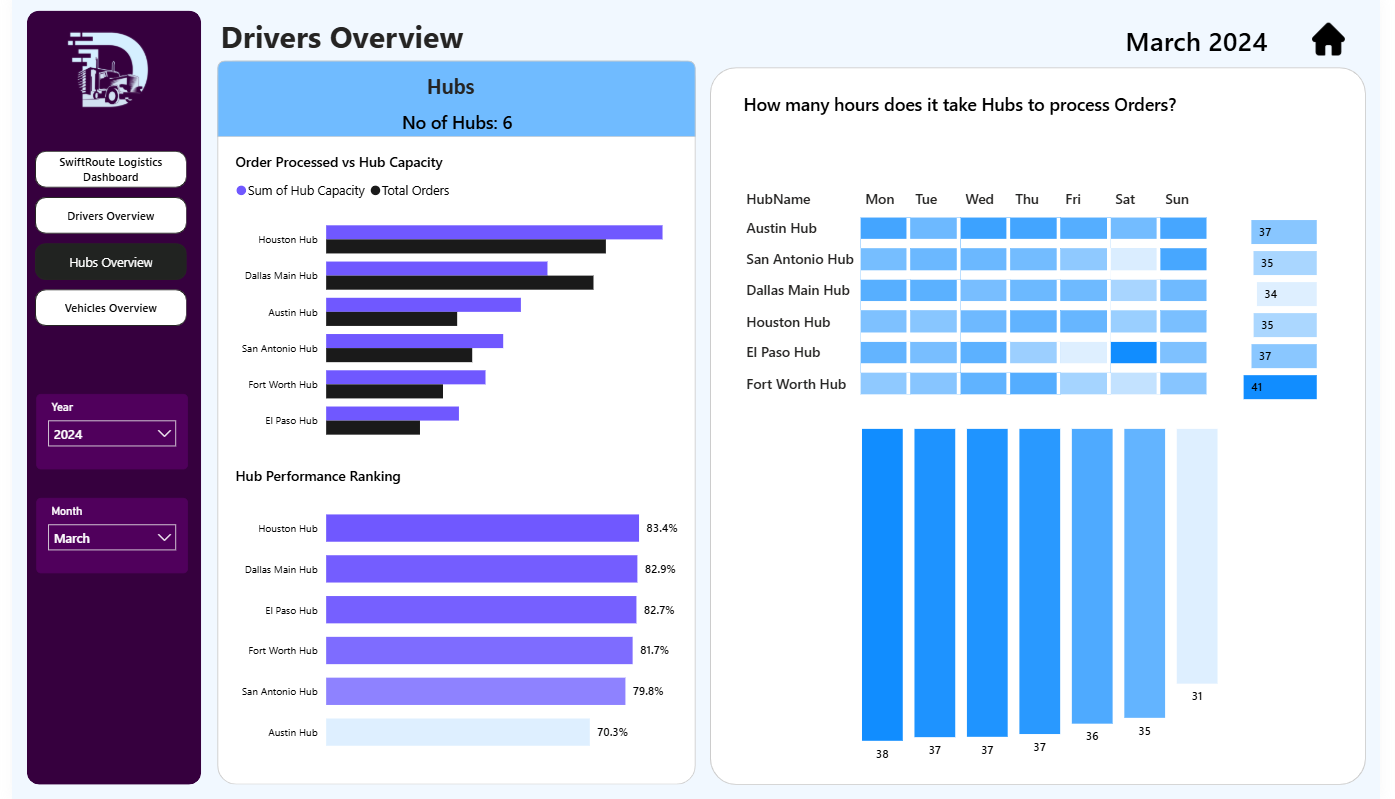

The dashboard page shown, as its layout file describes it:
{"tool":"powerbi","page":{"name":"Hubs Overview","canvas":[1450,850],"ordinal":2},"visuals":[{"type":"shape","box":[15.9,14.1,184.9,820.7],"z":0},{"type":"textbox","box":[216.1,14.3,567.9,60.7],"z":1000},{"type":"slicer","fields":{"Values":["Date Table.Year"]},"box":[25.1,420.1,160.7,80],"z":2000},{"type":"slicer","fields":{"Values":["Date Table.Month"]},"box":[25.1,530.8,160.7,80],"z":3000},{"type":"image","box":[29.3,29.3,148.4,103.5],"z":4000},{"type":"cardVisual","fields":{"Data":["Orders.Year Month Title"]},"box":[1145.6,22.4,219.1,44.9],"z":5000},{"type":"shape","box":[740.2,74.2,695.3,760.9],"z":6000},{"type":"image","box":[1378.5,27.6,34.5,34.5],"z":7000},{"type":"shape","box":[217.4,67.3,507.3,767.8],"z":8000},{"type":"shape","box":[217.4,67.3,507.3,81.1],"z":9000},{"type":"textbox","box":[434.8,74.2,72.5,41.4],"z":10000},{"type":"cardVisual","fields":{"Data":["Hubs.Number of Hubs"]},"box":[376.1,115.6,191.5,31.1],"z":11000},{"type":"clusteredBarChart","title":"Order Processed vs Hub Capacity  ","fields":{"Category":["Hubs.HubName"],"Y":["Sum(Hubs.Hub Capacity)","Orders.Total Orders"]},"box":[231.2,163.9,481.4,320.9],"z":12000},{"type":"barChart","title":"Hub Performance Ranking","fields":{"Category":["Hubs.HubName"],"Y":["Orders.ON Time Delivery Rate"]},"box":[231.2,498.6,481.4,319.2],"z":13000},{"type":"pivotTable","fields":{"Rows":["Hubs.HubName"],"Values":["Orders.Average Delivery Time (hr)"],"Columns":["Date Table.Day"]},"box":[768.9,197.3,514.2,260.5],"z":14000},{"type":"columnChart","fields":{"Category":["Date Table.Day"],"Y":["Orders.Average Delivery Time (hr)"]},"box":[895.5,443.4,388.2,374.4],"z":15000},{"type":"barChart","fields":{"Category":["Hubs.HubName"],"Y":["Orders.Average Delivery Time (hr)"]},"box":[1277.3,223.1,110.4,208.8],"z":16000},{"type":"cardVisual","fields":{"Data":["Hubs.Hub Title"]},"box":[759.2,93.2,514.2,38],"z":17000},{"type":"pageNavigator","box":[25,163,161.1,188],"z":18000}]}

Visuals, with their boxes in screenshot pixels (x1, y1, x2, y2), scaled from the page's 1450x850 canvas onto the 1395x799 screenshot:
shape: [15, 13, 193, 785]
textbox: [208, 13, 754, 70]
slicer - Date Table.Year: [24, 395, 179, 470]
slicer - Date Table.Month: [24, 499, 179, 574]
image: [28, 28, 171, 125]
cardVisual - Orders.Year Month Title: [1102, 21, 1313, 63]
shape: [712, 70, 1381, 785]
image: [1326, 26, 1359, 58]
shape: [209, 63, 697, 785]
shape: [209, 63, 697, 139]
textbox: [418, 70, 488, 109]
cardVisual - Hubs.Number of Hubs: [362, 109, 546, 138]
"Order Processed vs Hub Capacity  " clusteredBarChart: [222, 154, 686, 456]
"Hub Performance Ranking" barChart: [222, 469, 686, 769]
pivotTable - Hubs.HubName x Orders.Average Delivery Time (hr): [740, 185, 1234, 430]
columnChart - Date Table.Day x Orders.Average Delivery Time (hr): [862, 417, 1235, 769]
barChart - Hubs.HubName x Orders.Average Delivery Time (hr): [1229, 210, 1335, 406]
cardVisual - Hubs.Hub Title: [730, 88, 1225, 123]
pageNavigator: [24, 153, 179, 330]
